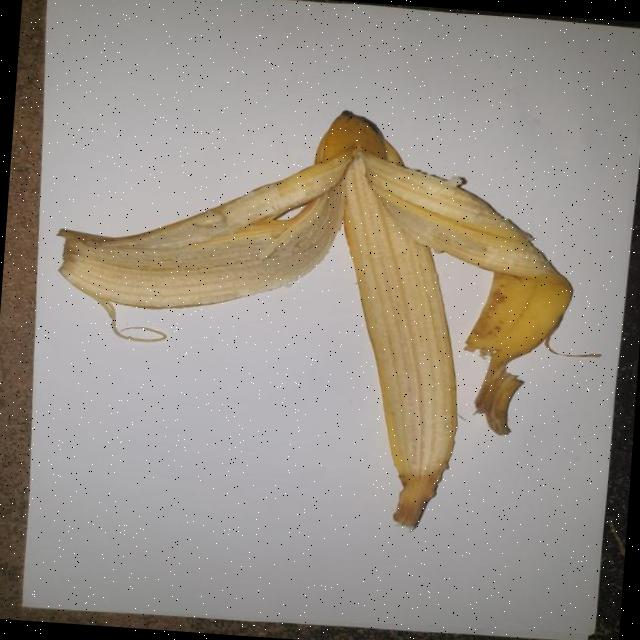banana-peel: (36, 88, 586, 540)
